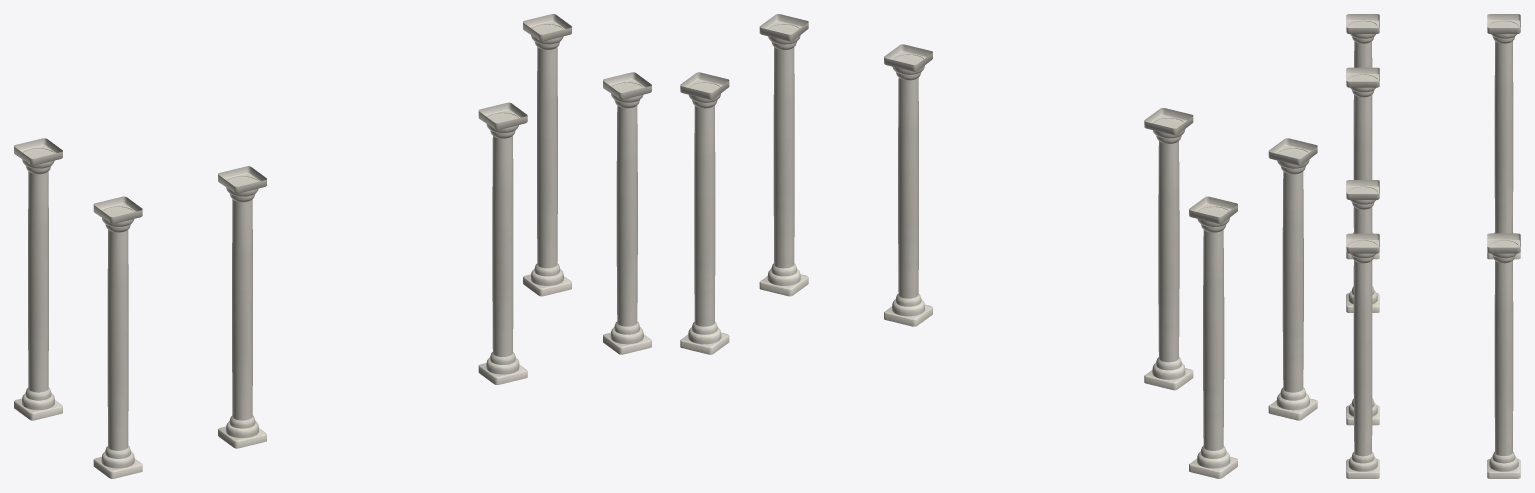
File: Columnas_Fachada.obj
The picture shows the model from 3 angles, left to right: view 1: azimuth 30°, elevation 25°; view 2: azimuth 150°, elevation 25°; view 3: azimuth 270°, elevation 25°; orthographic projection. The views are drawn at different scales.
Visible parts, largest first — view 1: Columnas_Fachada; view 2: Columnas_Fachada; view 3: Columnas_Fachada.
Boxes of the visible parts, left/top/right/bottom form: Columnas_Fachada: left=14, top=14, right=651, bottom=478; Columnas_Fachada: left=680, top=14, right=1317, bottom=478; Columnas_Fachada: left=1346, top=14, right=1520, bottom=478.
Bounding box in the file's own units: 6.37 × 2.94 × 2.01.
1 material, 1 textured.
